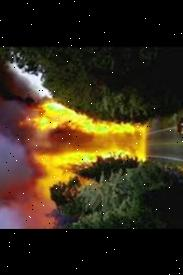fire: (4, 92, 154, 196)
